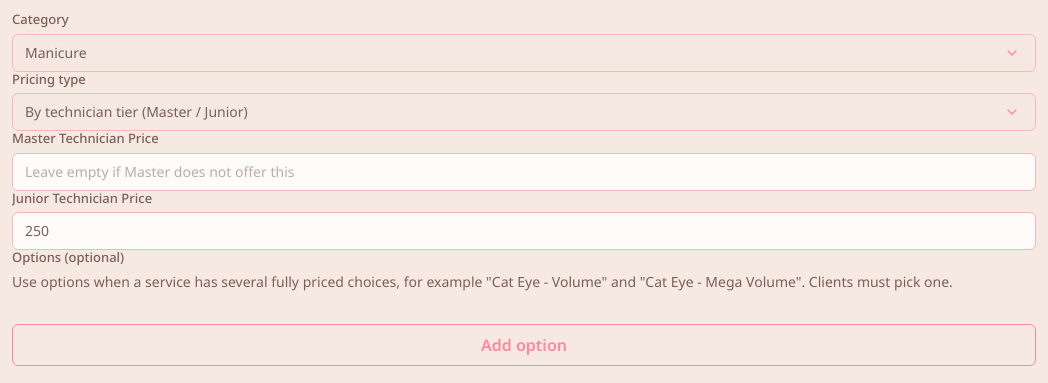
Test: ServicePricingFields › lists categories from the table, not a fixed list
This screenshot has width=1048, height=383.
Click the button with aria-label "category" at (56, 52), box [12, 34, 1036, 72]
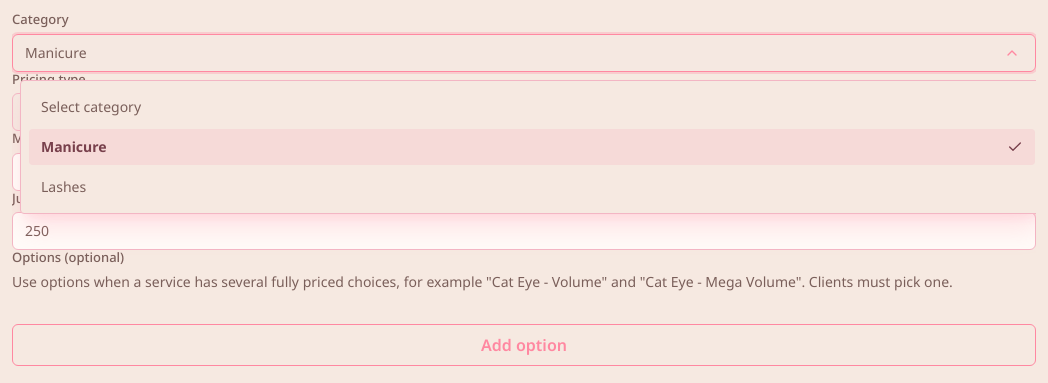
Check: the option "Lashes" is shown, box [29, 169, 1035, 205]
